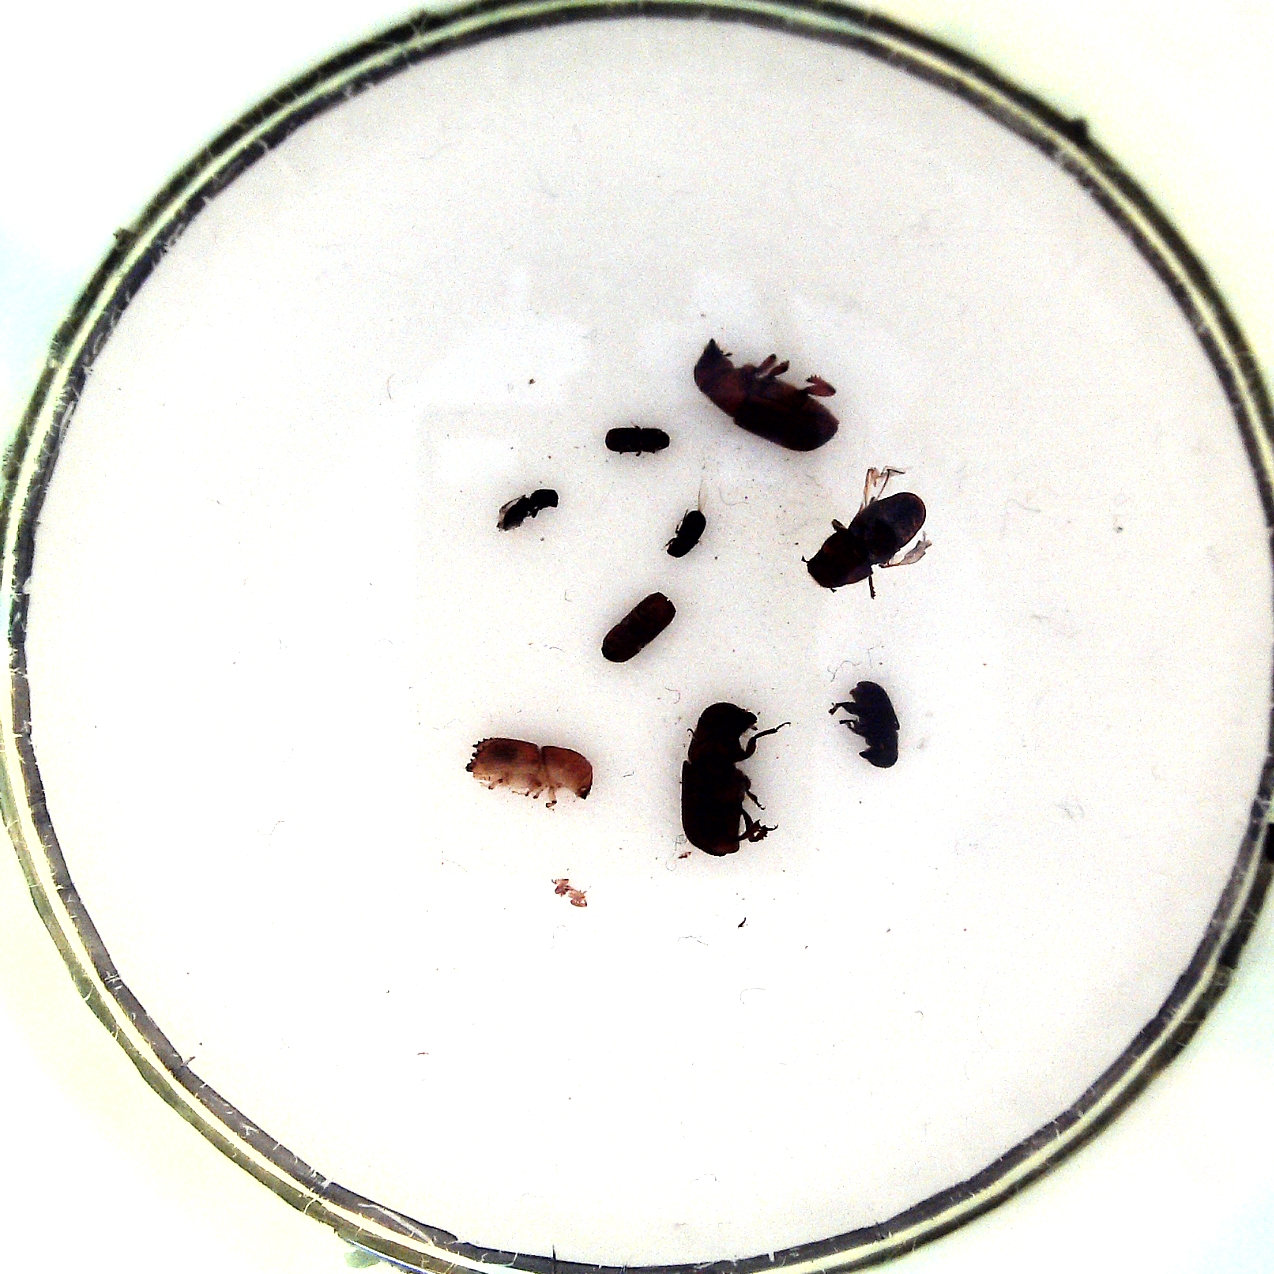Boerner: (462, 729, 598, 808)
Leconte: (794, 459, 937, 601), (691, 332, 849, 457), (673, 698, 793, 862)
Linnaeus: (591, 589, 688, 668)
armandi: (822, 671, 907, 775)
coleoptera: (664, 475, 723, 560), (490, 480, 565, 537), (596, 421, 678, 462)
